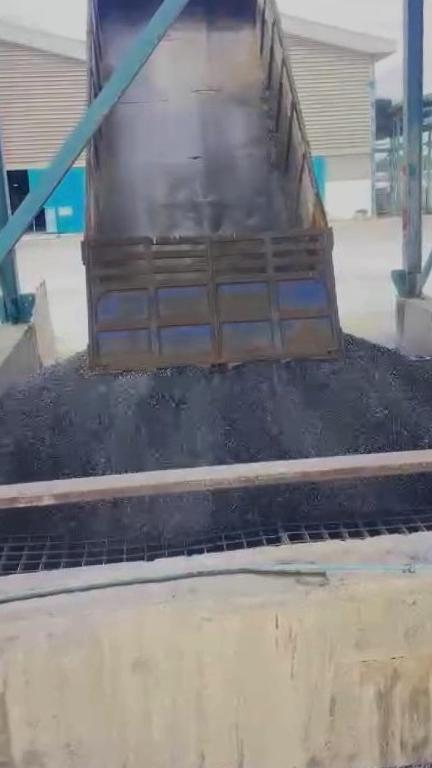gravel: (0, 336, 432, 482), (0, 473, 432, 543), (349, 759, 432, 768)
